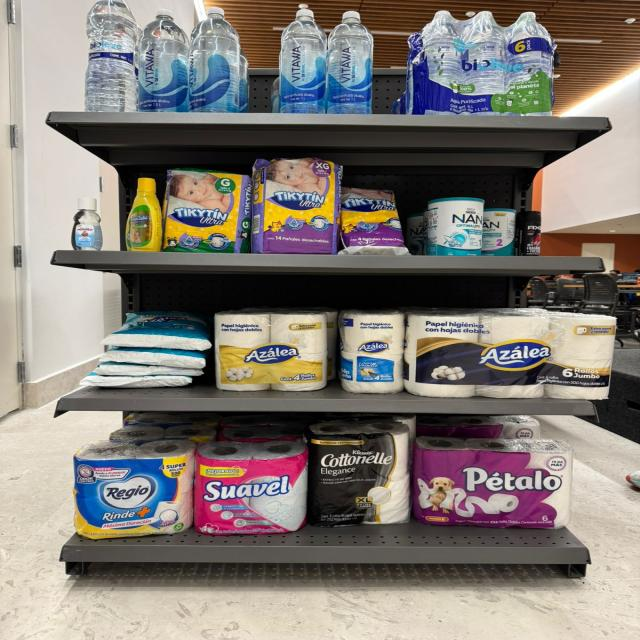AGUA ALCALINA VITAWA 1.5 LTS: (139, 9, 191, 112), (191, 6, 241, 113)
AGUA ALCALINA VITAWA 1LT: (281, 9, 329, 114), (329, 10, 373, 114)
AGUA BIOLEVE 1.5 LTS: (86, 0, 142, 111)
Aceite para bebe Baby Magic Mennen 100 ml bote: (71, 197, 103, 250)
Agua Bioleve 1L 6pack: (408, 9, 554, 115), (392, 90, 406, 115)
DETERGENTE AZALEA MULTIUSOS 800G: (101, 311, 212, 351), (100, 346, 206, 369), (79, 372, 192, 388), (92, 361, 204, 376)
Desodorante AXE Fusion 150ml: (514, 211, 541, 256)
Hig Petalo UltraJumbo 6s 234h: (412, 437, 573, 530), (416, 415, 540, 441)
Higienico Cottonelle Elegance XL 252h: (302, 420, 411, 527), (309, 412, 416, 511)
Higienico Suavel 325h 4rollos: (194, 440, 308, 535), (218, 426, 304, 444), (220, 414, 303, 431)
NAN 1 OPTIPRO Formula Infantil 12x400gMX: (427, 197, 485, 256), (406, 213, 423, 256), (422, 208, 428, 256)
NAN 2 OPTIPRO Formula Infantil 12x400gMX: (482, 208, 516, 256)
PAPEL HIGIENICO AZALEA 4 ROLLOS 350 HOJAS: (214, 312, 327, 392), (242, 307, 337, 380)
PAPEL HIGIENICO AZALEA 4S CON AROMA: (340, 312, 404, 393)
Panales Tikytin 14pz T4: (161, 168, 252, 254)
Panales Tikytin 14pz T5: (252, 157, 342, 254)
Papel Higienico Azalea 6 Rollos 500 Hojas: (403, 312, 618, 400), (402, 308, 543, 312)
Papel Regio Rinde 4pz: (73, 439, 196, 538), (109, 425, 216, 447), (124, 413, 221, 429)
Shampoo KleenBebe Manzanilla 250ml: (130, 178, 162, 252), (126, 208, 132, 251)
Tikytin Ultra talla 5 X-Grande 364: (338, 187, 413, 255)
